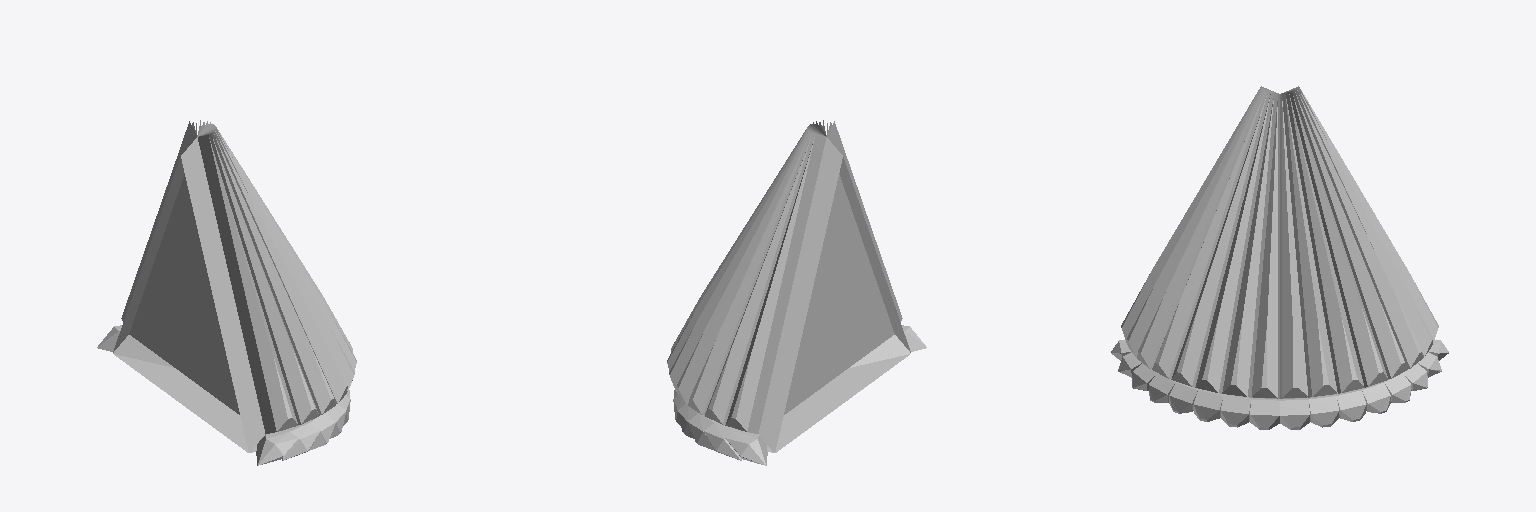
The model's file is spot.obj.
3 views of the same model, side by side, from view 1: azimuth 30°, elevation 25°; view 2: azimuth 150°, elevation 25°; view 3: azimuth 270°, elevation 25° (orthographic).
Parts seen in each view (by area): view 1: Cone; view 2: Cone; view 3: Cone.
Part boxes in pixels (bbox=[...]): Cone: bbox=[97, 120, 356, 465]; Cone: bbox=[667, 120, 926, 465]; Cone: bbox=[1111, 86, 1448, 429].
Size of the model in its own units: 1.34 by 2.3 by 2.48.